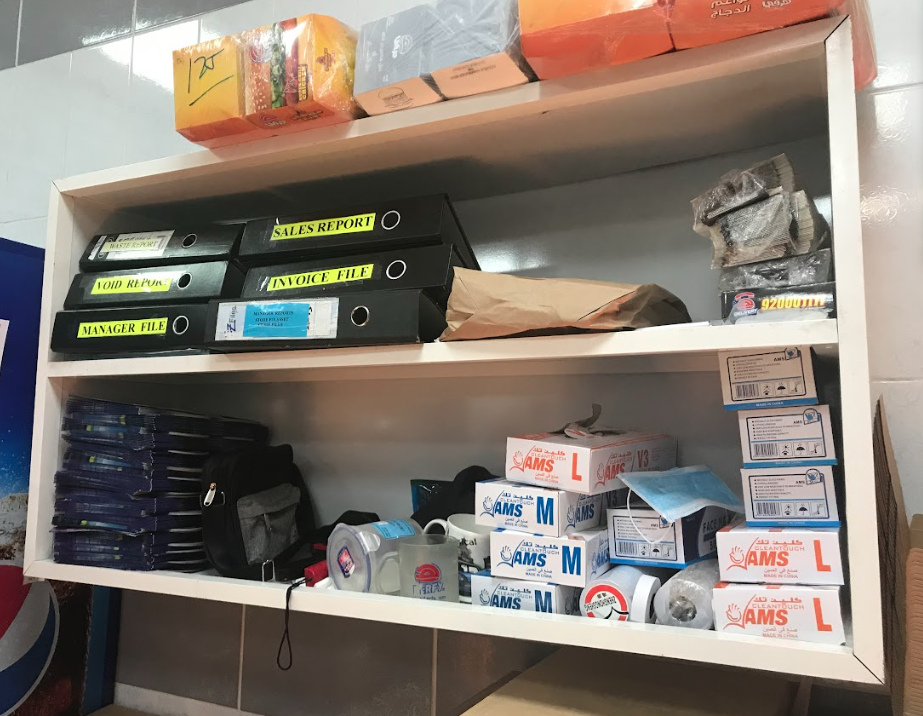Aluminum Shelves: (24, 14, 898, 693)
